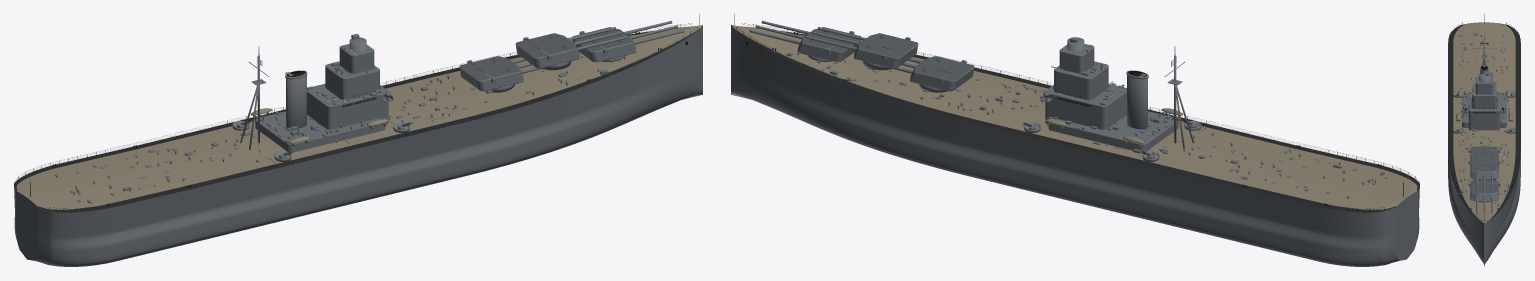
File: nelson.glb
The picture shows the model from 3 angles, left to right: view 1: azimuth 30°, elevation 25°; view 2: azimuth 150°, elevation 25°; view 3: azimuth 270°, elevation 25°; orthographic projection. The views are drawn at different scales.
Visible parts, largest first — view 1: nelson, T_1_malla, T_2_malla, T_0_malla, C_0, C_1; view 2: nelson, T_1_malla, T_2_malla, T_0_malla, C_0, C_1; view 3: nelson, T_1_malla, T_0_malla, T_2_malla, C_0, C_1.
Part boxes in pixels (x1,y1,x2,y2): nelson: (14,14,702,266); T_1_malla: (515,33,579,68); T_2_malla: (459,56,523,91); T_0_malla: (572,27,636,62); C_0: (624,20,684,44); C_1: (567,27,628,50); nelson: (731,14,1419,266); T_1_malla: (854,33,918,68); T_2_malla: (910,56,974,91); T_0_malla: (797,27,861,62); C_0: (749,20,809,44); C_1: (805,27,866,50); nelson: (1448,14,1520,266); T_1_malla: (1468,158,1500,179); T_0_malla: (1468,180,1500,201); T_2_malla: (1468,146,1500,165); C_0: (1475,196,1493,213); C_1: (1475,174,1493,191).
Size of the model in its own units: 216 by 48 by 32.3.
